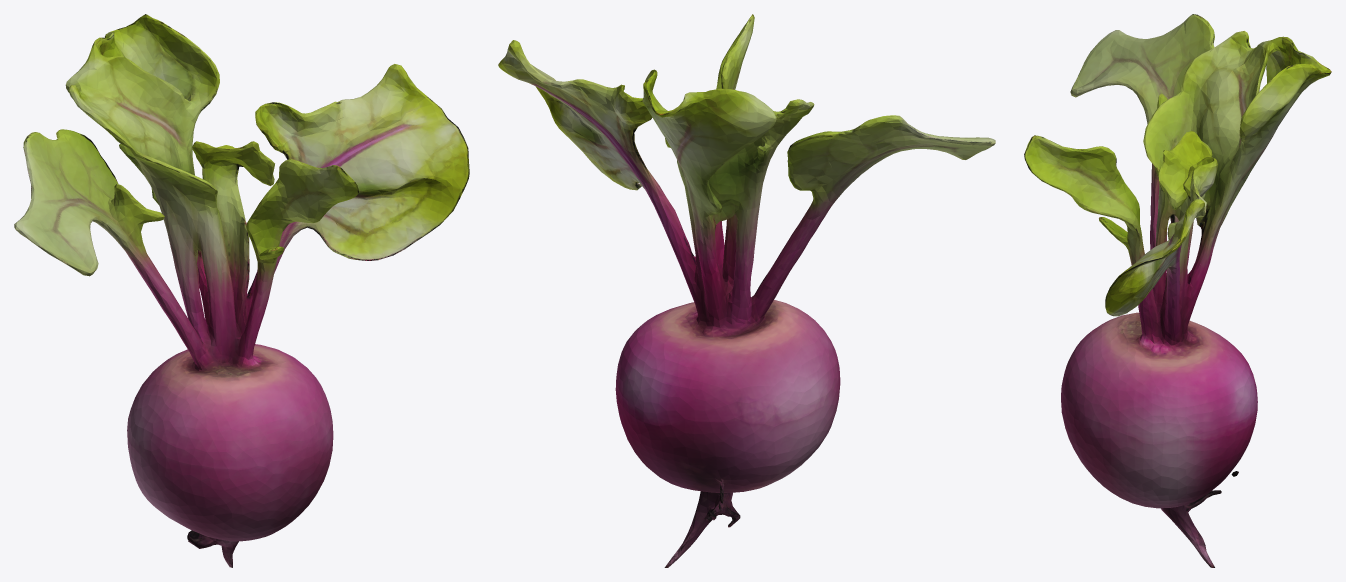
Rendered from beetroot.glb.
3 views of the same model, side by side, from view 1: azimuth 30°, elevation 25°; view 2: azimuth 150°, elevation 25°; view 3: azimuth 270°, elevation 25° (orthographic). The views are drawn at different scales.
Parts seen in each view (by area): view 1: world; view 2: world; view 3: world.
Boxes of the visible parts, x1=… form: world: x1=14, y1=14, x2=469, y2=567; world: x1=498, y1=14, x2=995, y2=567; world: x1=1024, y1=14, x2=1331, y2=567.
Size of the model in its own units: 0.9187 by 0.9994 by 0.5702.
1 material, 1 textured.
